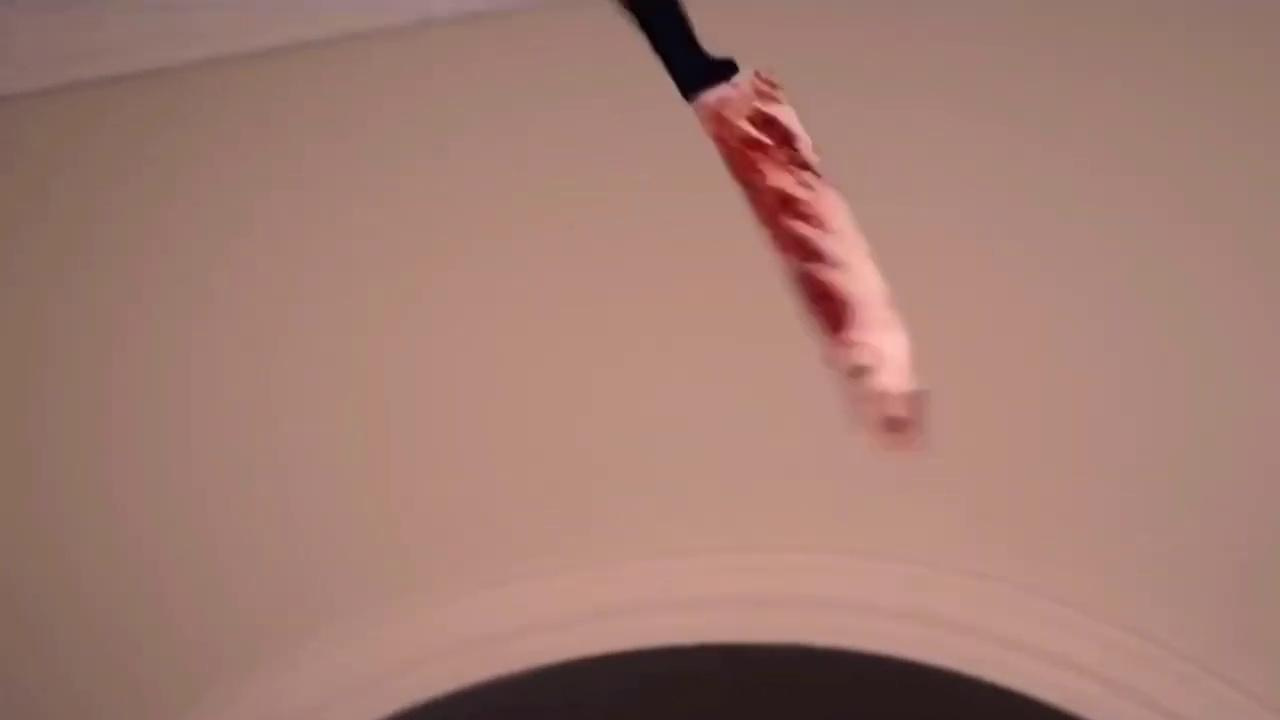Fire: (693, 69, 926, 448)
